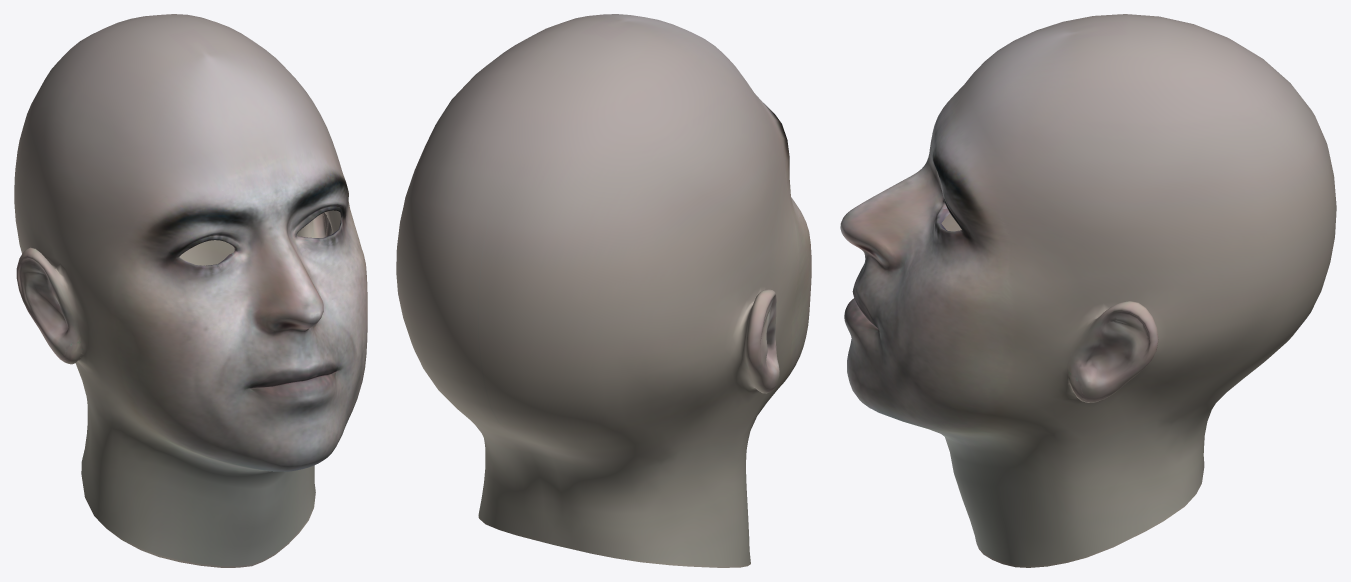
3 views of the same model, side by side, from view 1: azimuth 30°, elevation 25°; view 2: azimuth 150°, elevation 25°; view 3: azimuth 270°, elevation 25° (orthographic). The views are drawn at different scales.
Visible parts, largest first — view 1: FaceGen; view 2: FaceGen; view 3: FaceGen.
Boxes of the visible parts, <box> form: FaceGen: <box>14,14,367,567</box>; FaceGen: <box>396,14,811,567</box>; FaceGen: <box>840,14,1336,567</box>.
Bounding box in the file's own units: 187 × 279 × 244.
1 material, 1 textured.
